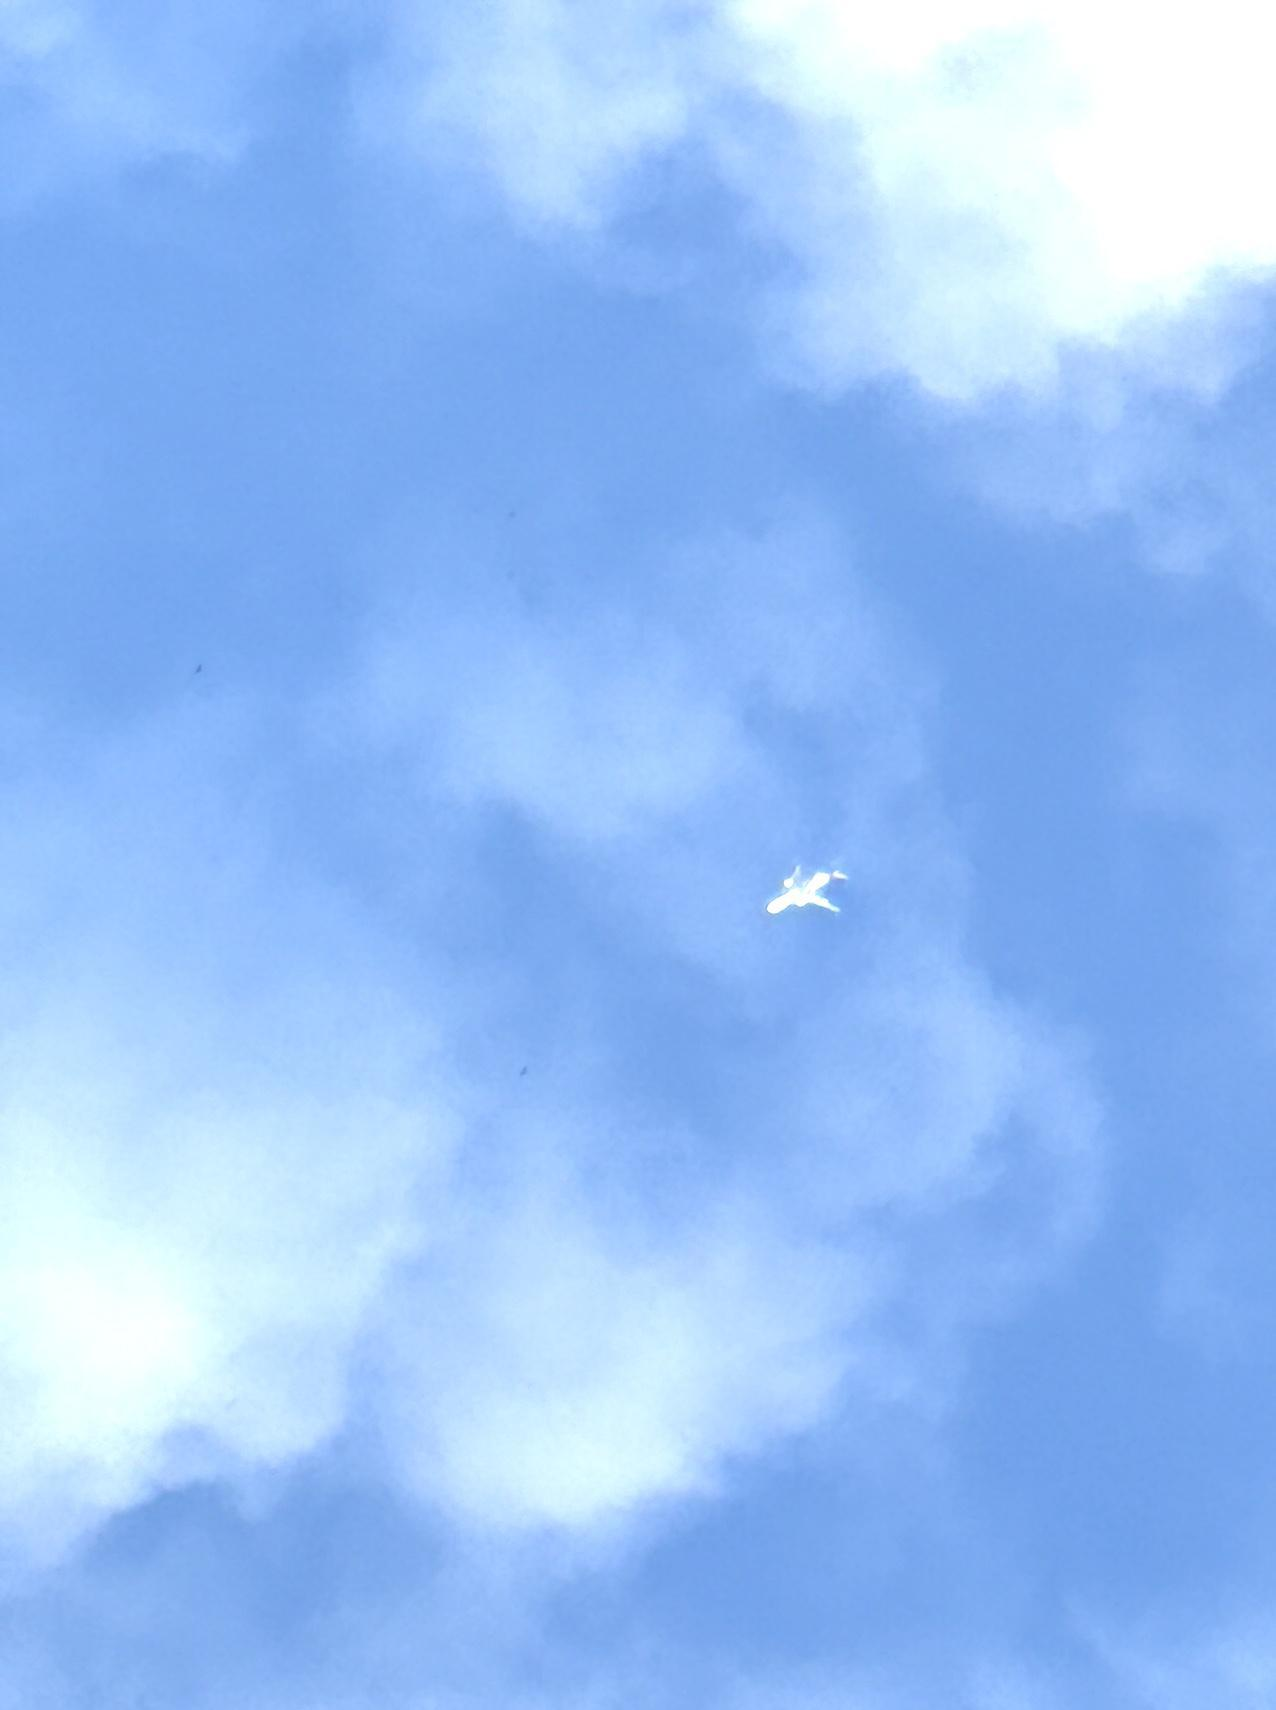Plane: (735, 830, 871, 954)
